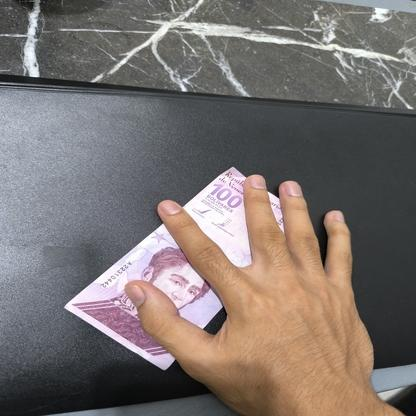one_hundred-front-vef: (64, 165, 284, 372)
